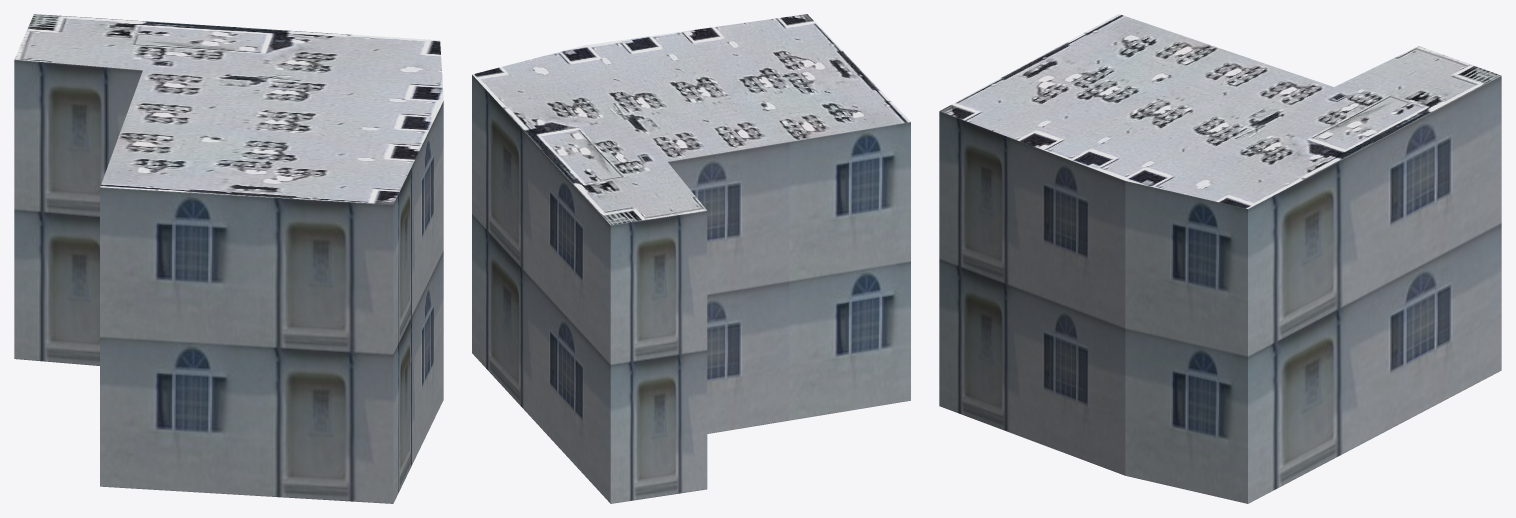
Rendered from ResTex__2283.fbx.
3 renders of one model, left to right at view 1: azimuth 30°, elevation 25°; view 2: azimuth 150°, elevation 25°; view 3: azimuth 270°, elevation 25°, orthographic. The views are drawn at different scales.
Visible parts, largest first — view 1: CityEngineMaterial_17_m, CityEngineMaterial_m; view 2: CityEngineMaterial_17_m, CityEngineMaterial_m; view 3: CityEngineMaterial_17_m, CityEngineMaterial_m.
Part boxes in pixels (left/top/right/bottom): CityEngineMaterial_17_m: left=14, top=59, right=443, bottom=503; CityEngineMaterial_m: left=14, top=14, right=443, bottom=204; CityEngineMaterial_17_m: left=472, top=75, right=910, bottom=503; CityEngineMaterial_m: left=472, top=14, right=910, bottom=225; CityEngineMaterial_17_m: left=939, top=76, right=1501, bottom=503; CityEngineMaterial_m: left=940, top=14, right=1501, bottom=208.
Size of the model in its own units: 8.51 by 6 by 10.37.
Materials: 2 (2 with a texture image).
